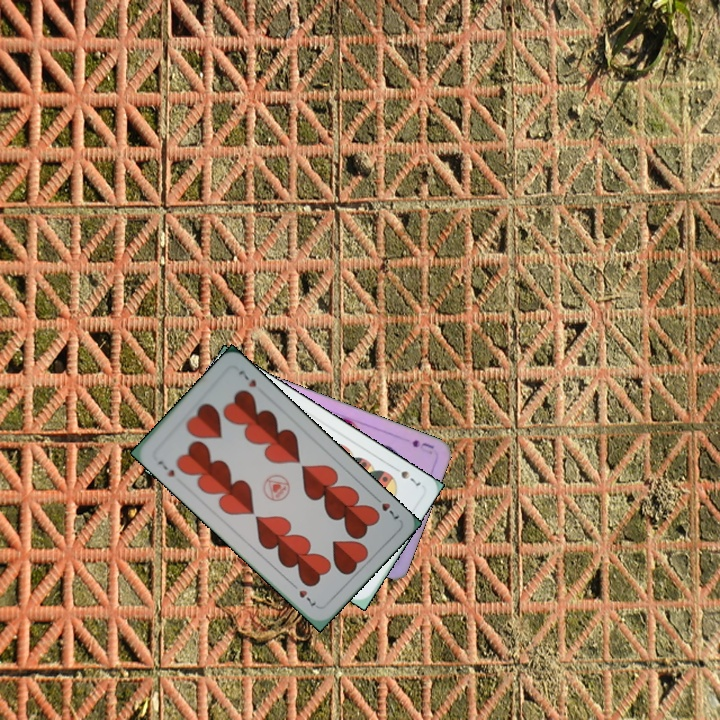H7: (369, 491, 402, 522), (154, 456, 177, 479)
S7: (388, 462, 423, 488)
SU: (408, 436, 437, 457)
